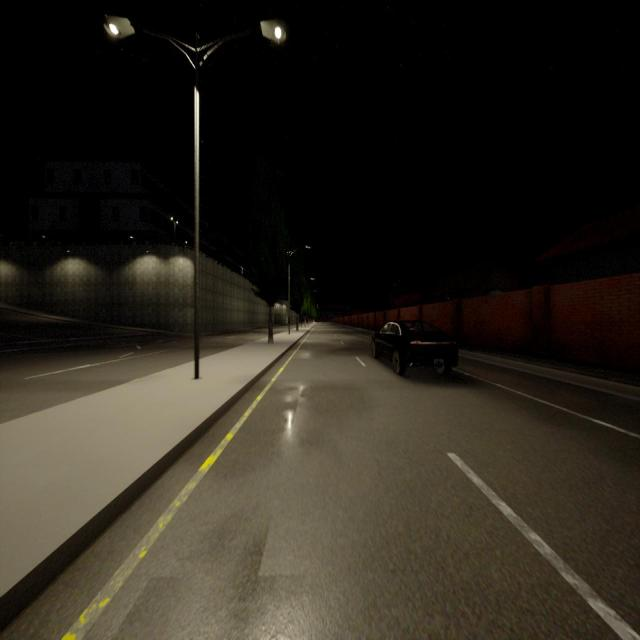Vehicle: (371, 320, 458, 375)
